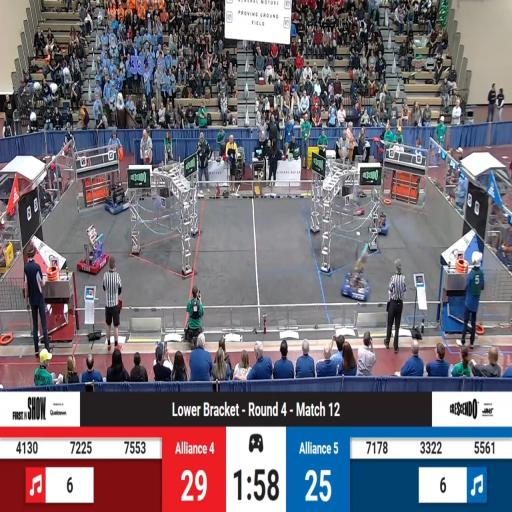robot: (78, 227, 108, 275), (343, 266, 369, 300), (104, 186, 130, 214), (367, 204, 389, 236)
